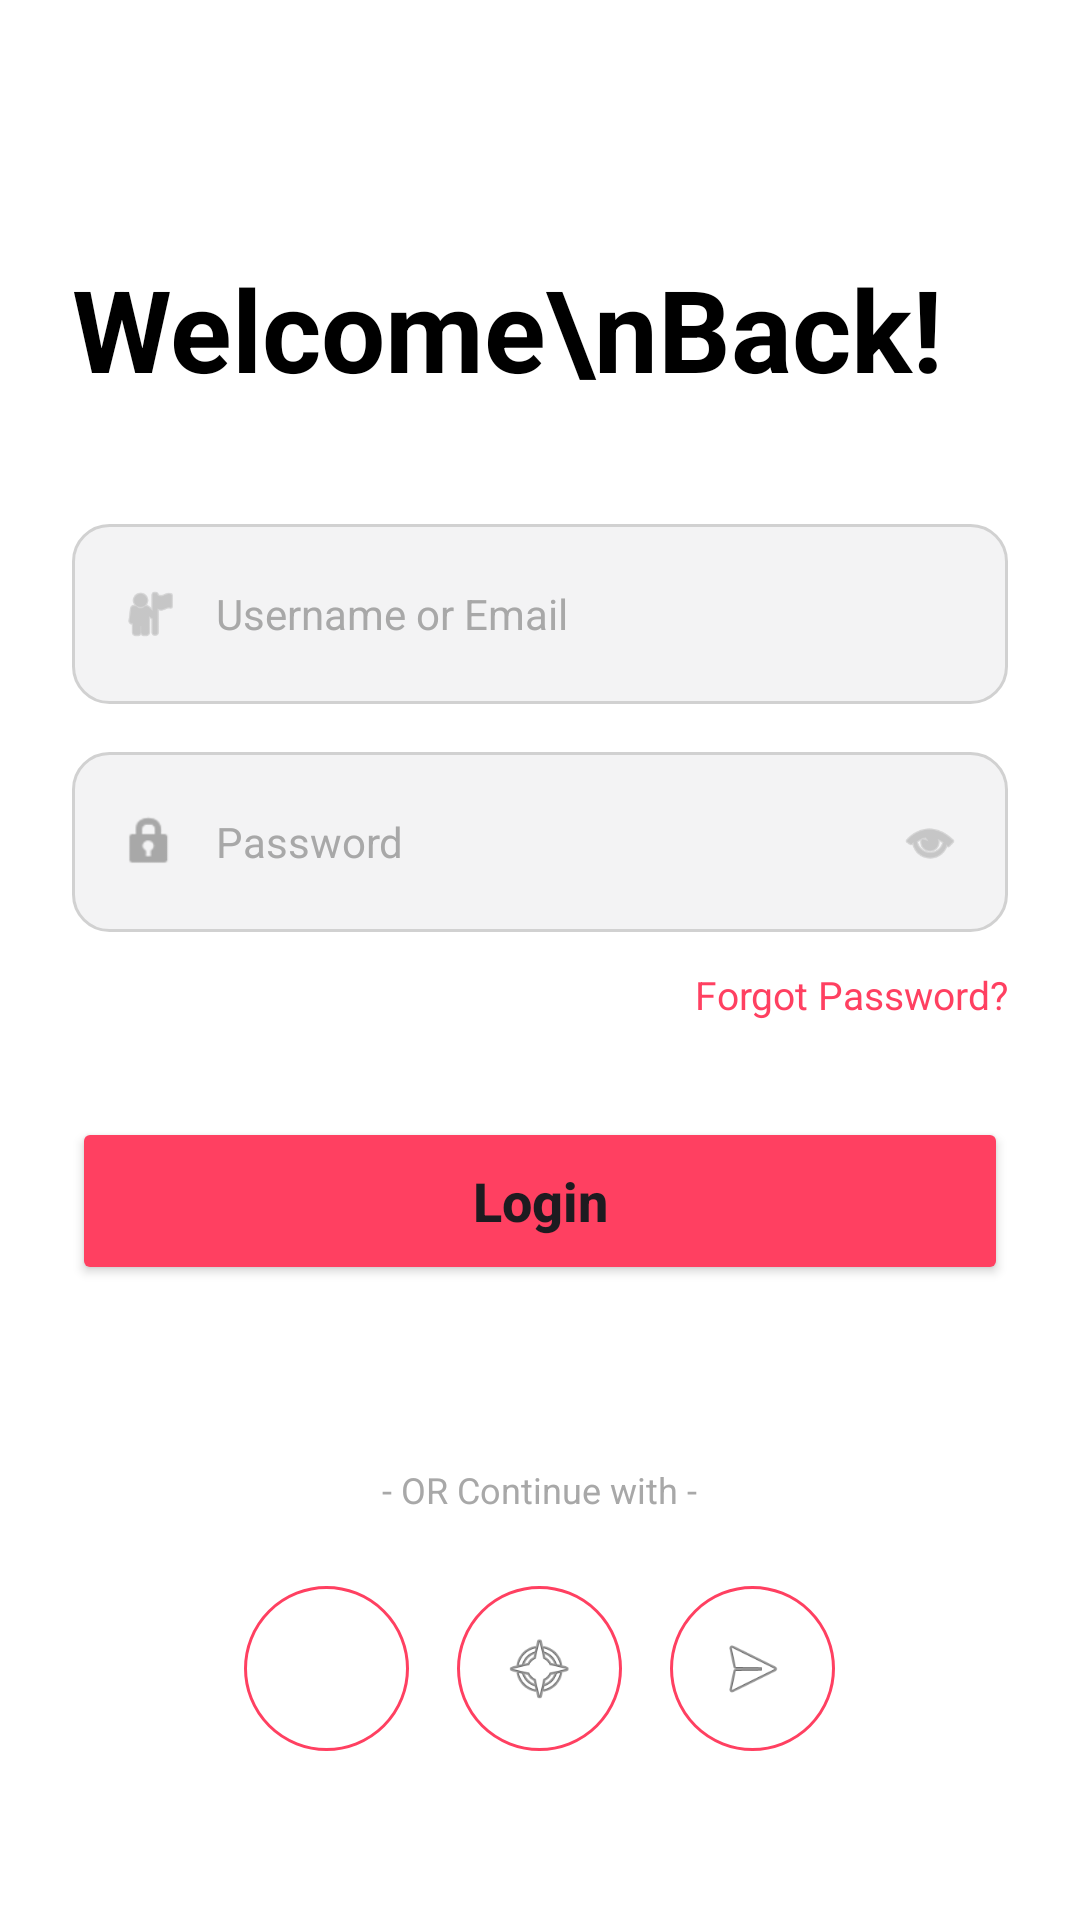

Screen size 1080*1920. Icon name, then its box in pixels as [left=x1, top=y1, right=x2, bottom=y2]:
compass: [left=457, top=1586, right=622, bottom=1751]
lock idle: [left=129, top=818, right=168, bottom=863]
send: [left=670, top=1586, right=835, bottom=1751]
view: [left=906, top=829, right=954, bottom=858]
